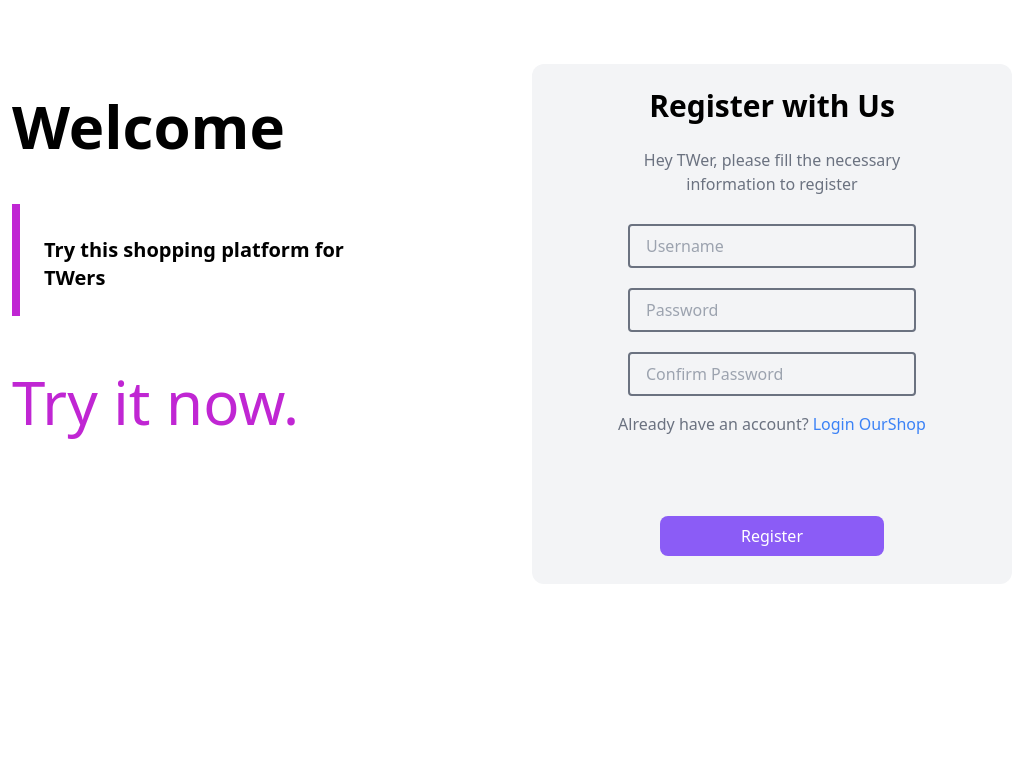
Scenario: display register page › should show error tips when all required information is missing
This screenshot has width=1024, height=768.
Click the button with test id "register-btn" at (772,536), box top-left (660, 516), bottom-right (884, 556)
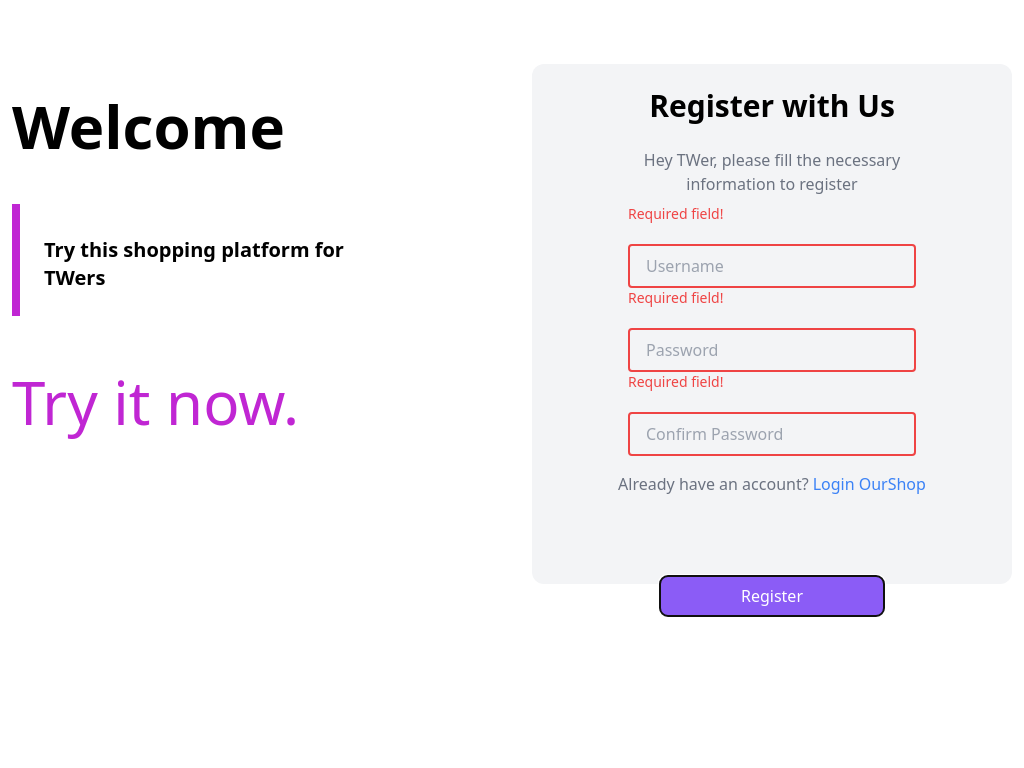
Expected: the text "Required field!" is shown 3 times, top-left (628, 204), bottom-right (724, 223); top-left (628, 288), bottom-right (724, 307); top-left (628, 372), bottom-right (724, 391)
